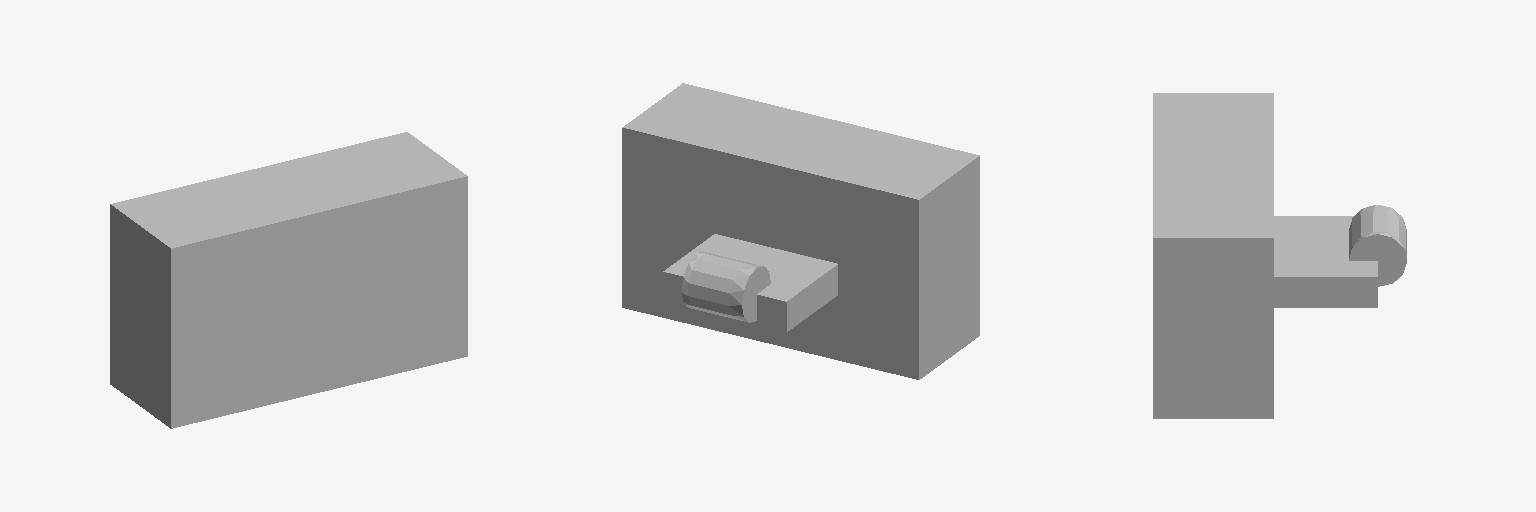
File: dron.obj
The picture shows the model from 3 angles: view 1: azimuth 30°, elevation 25°; view 2: azimuth 150°, elevation 25°; view 3: azimuth 270°, elevation 25°; orthographic projection.
Parts seen in each view (by area): view 1: 1; view 2: 1; view 3: 1.
Boxes of the visible parts, x1=… form: 1: x1=110, y1=132, x2=467, y2=428; 1: x1=622, y1=83, x2=979, y2=379; 1: x1=1153, y1=93, x2=1406, y2=418.
Bounding box in the file's own units: 373 × 217 × 277.